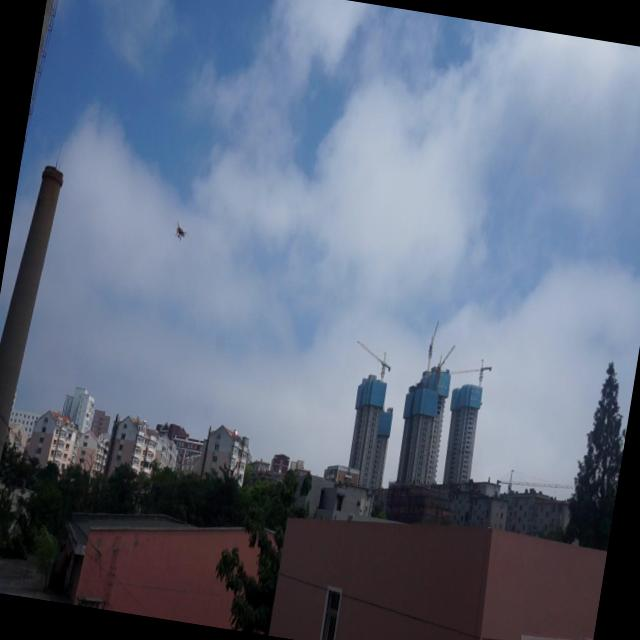drone: (170, 221, 190, 243)
